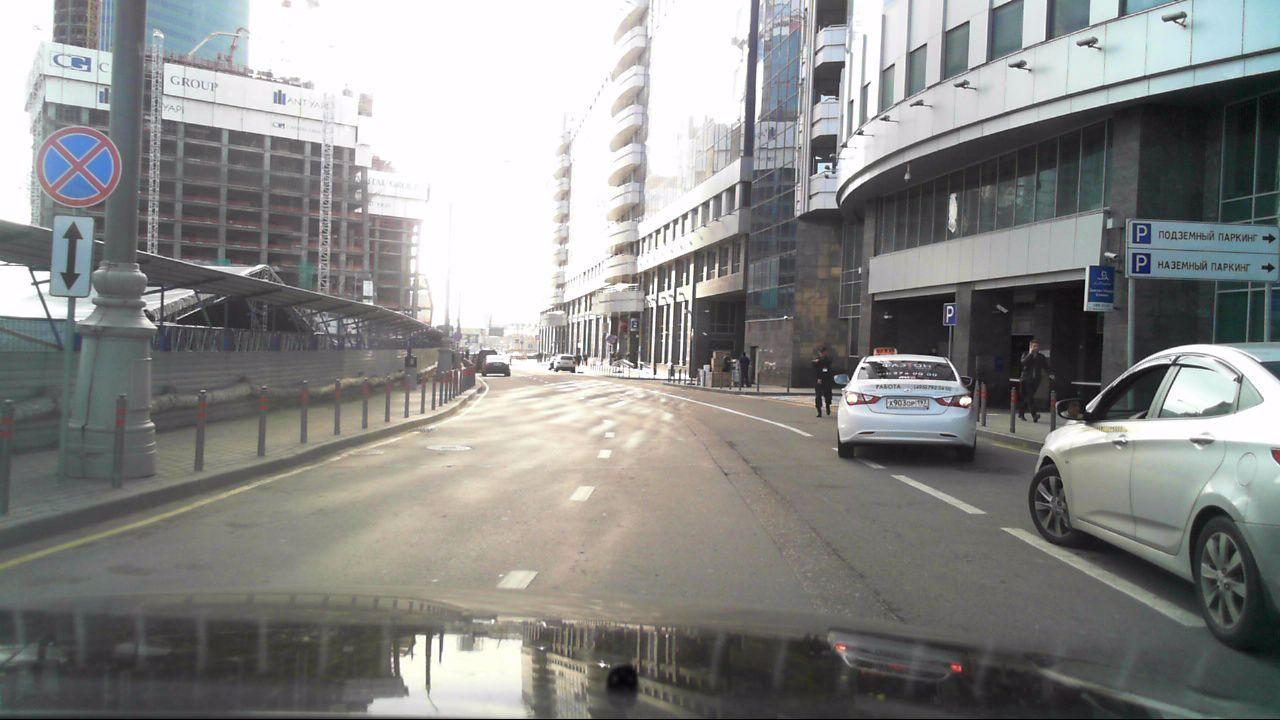3_27: (35, 121, 122, 206)
6_10_1: (1125, 215, 1280, 285)
6_4: (1132, 251, 1152, 274), (1133, 221, 1152, 244), (942, 301, 958, 327)
8_2_4: (50, 208, 95, 298)
